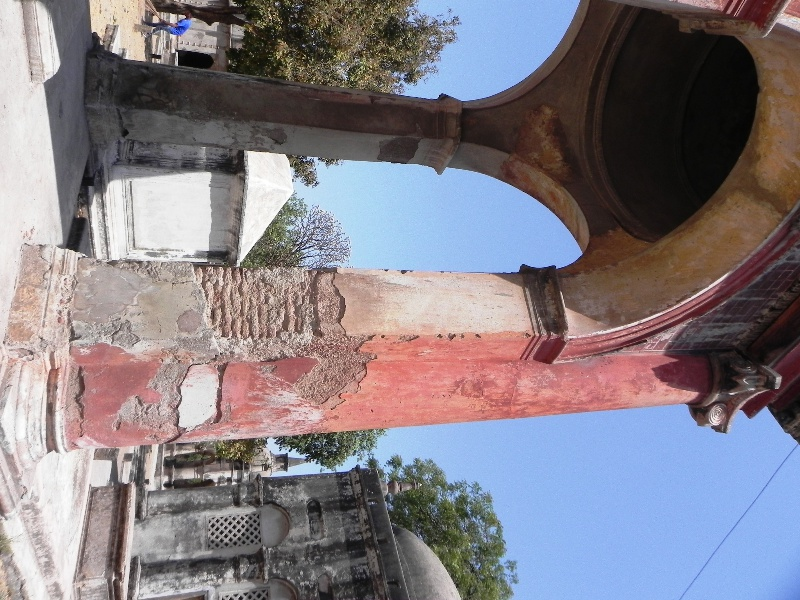Exposed Bricks: (192, 266, 320, 346)
Spalling: (295, 348, 375, 405), (66, 305, 85, 425), (380, 138, 420, 165)
